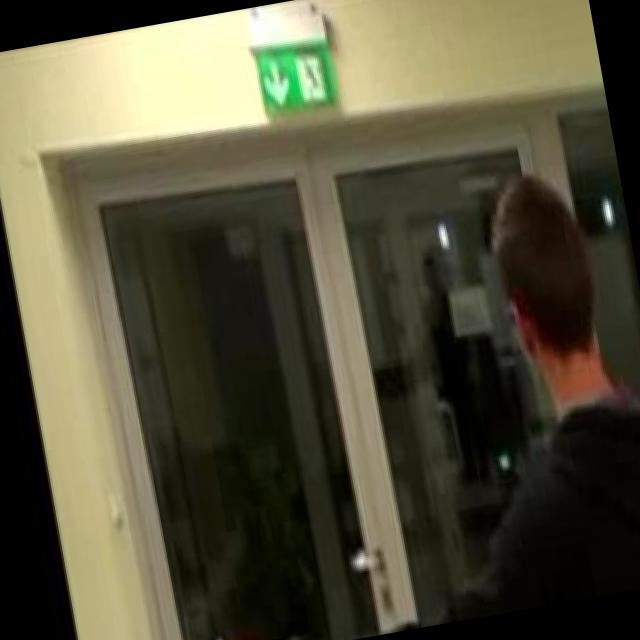Guns: (138, 618, 257, 640)
